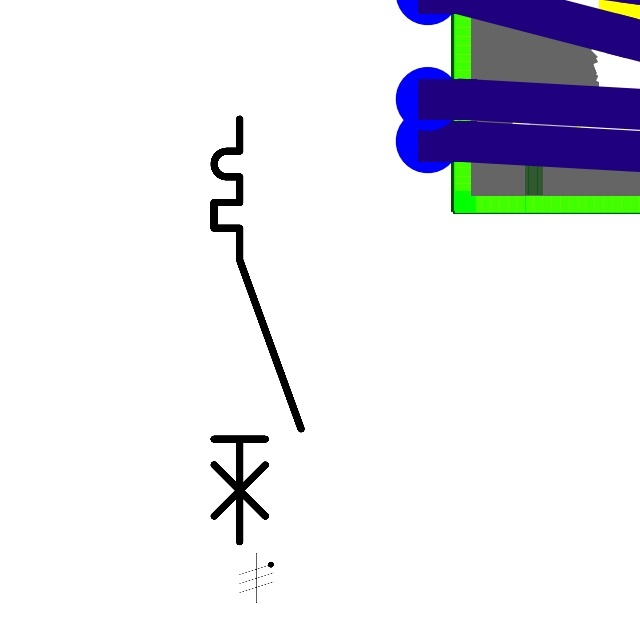interruptor_termomagnetico: (203, 108, 312, 552)
